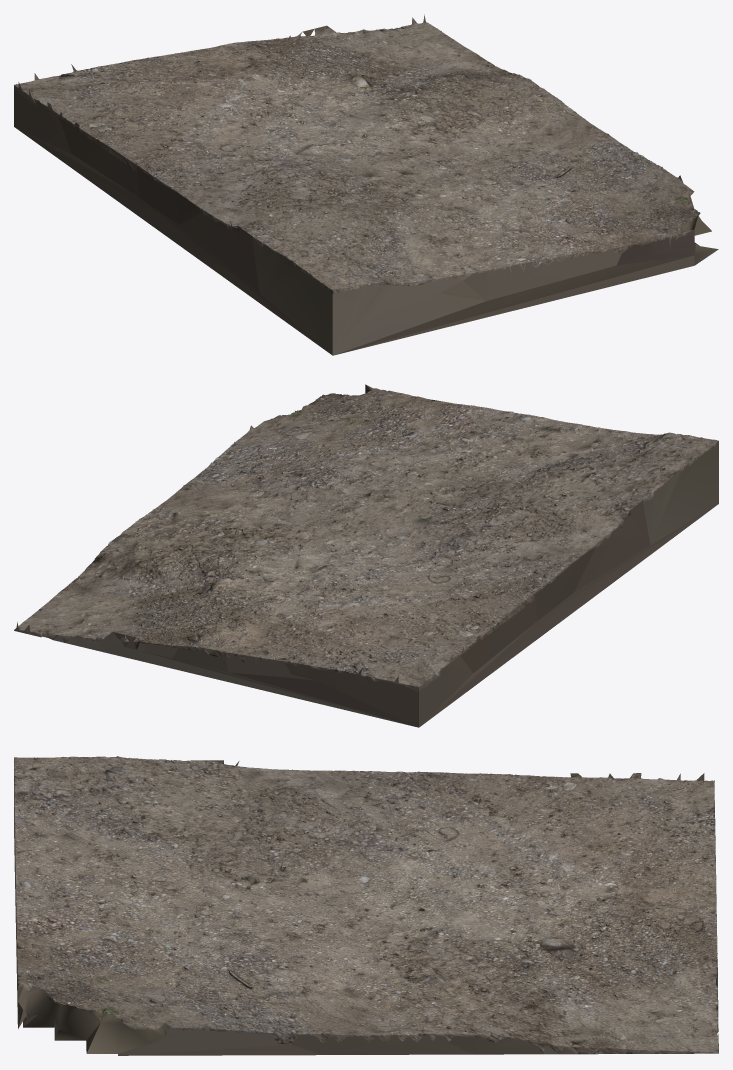
The model's file is ground-v1.glb.
3 renders of one model, top to bottom at view 1: azimuth 30°, elevation 25°; view 2: azimuth 150°, elevation 25°; view 3: azimuth 270°, elevation 25°, orthographic. The views are drawn at different scales.
Visible parts, largest first — view 1: Ground_02_Ground_02_u1_v1_0; view 2: Ground_02_Ground_02_u1_v1_0; view 3: Ground_02_Ground_02_u1_v1_0.
Boxes of the visible parts, x1,y1,x2,y2 form: Ground_02_Ground_02_u1_v1_0: (14, 14, 718, 355); Ground_02_Ground_02_u1_v1_0: (14, 384, 718, 727); Ground_02_Ground_02_u1_v1_0: (14, 756, 718, 1055).
Size of the model in its own units: 27.35 by 4.12 by 35.66.
1 material, 1 textured.
